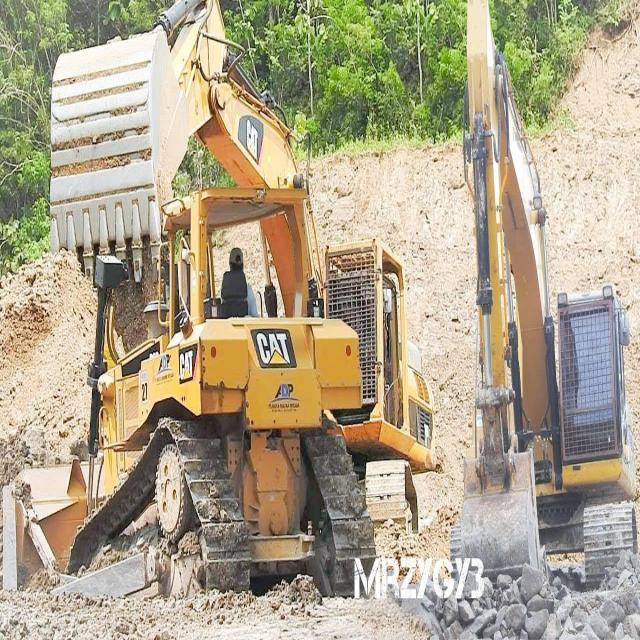Bulldozer: (9, 168, 376, 621)
Excavator: (447, 6, 639, 604)
